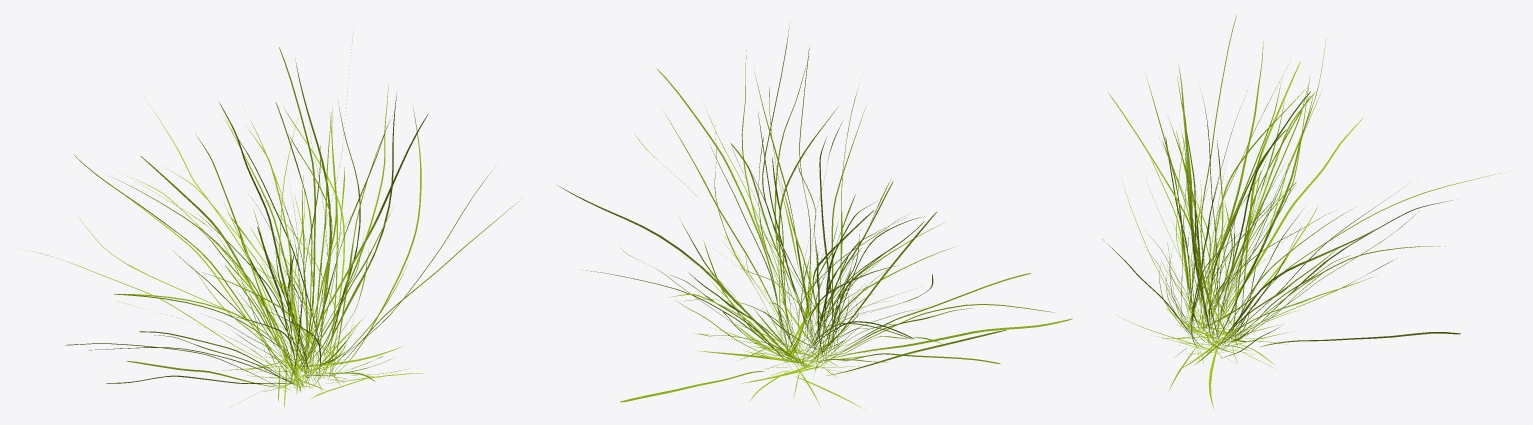
File: gallitos.glb
3 views of the same model, side by side, from view 1: azimuth 30°, elevation 25°; view 2: azimuth 150°, elevation 25°; view 3: azimuth 270°, elevation 25° (orthographic). The views are drawn at different scales.
Visible parts, largest first — view 1: GS Dryland thin 01; view 2: GS Dryland thin 01; view 3: GS Dryland thin 01.
Boxes of the visible parts, x1,y1,x2,y2 form: GS Dryland thin 01: (20,34,520,408); GS Dryland thin 01: (556,21,1072,409); GS Dryland thin 01: (1102,14,1505,408).
Size of the model in its own units: 1.27 by 1.06 by 1.16.
